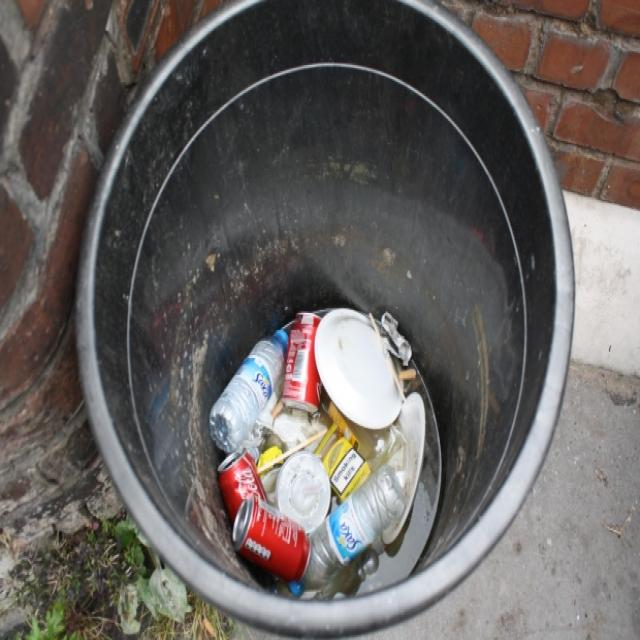metal: (222, 462, 300, 590), (288, 308, 318, 416)
plastic: (330, 310, 416, 434), (324, 465, 387, 562), (222, 332, 286, 423)
